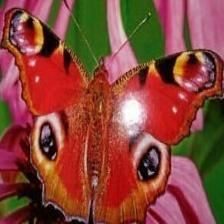butterfly: (2, 10, 223, 224)
